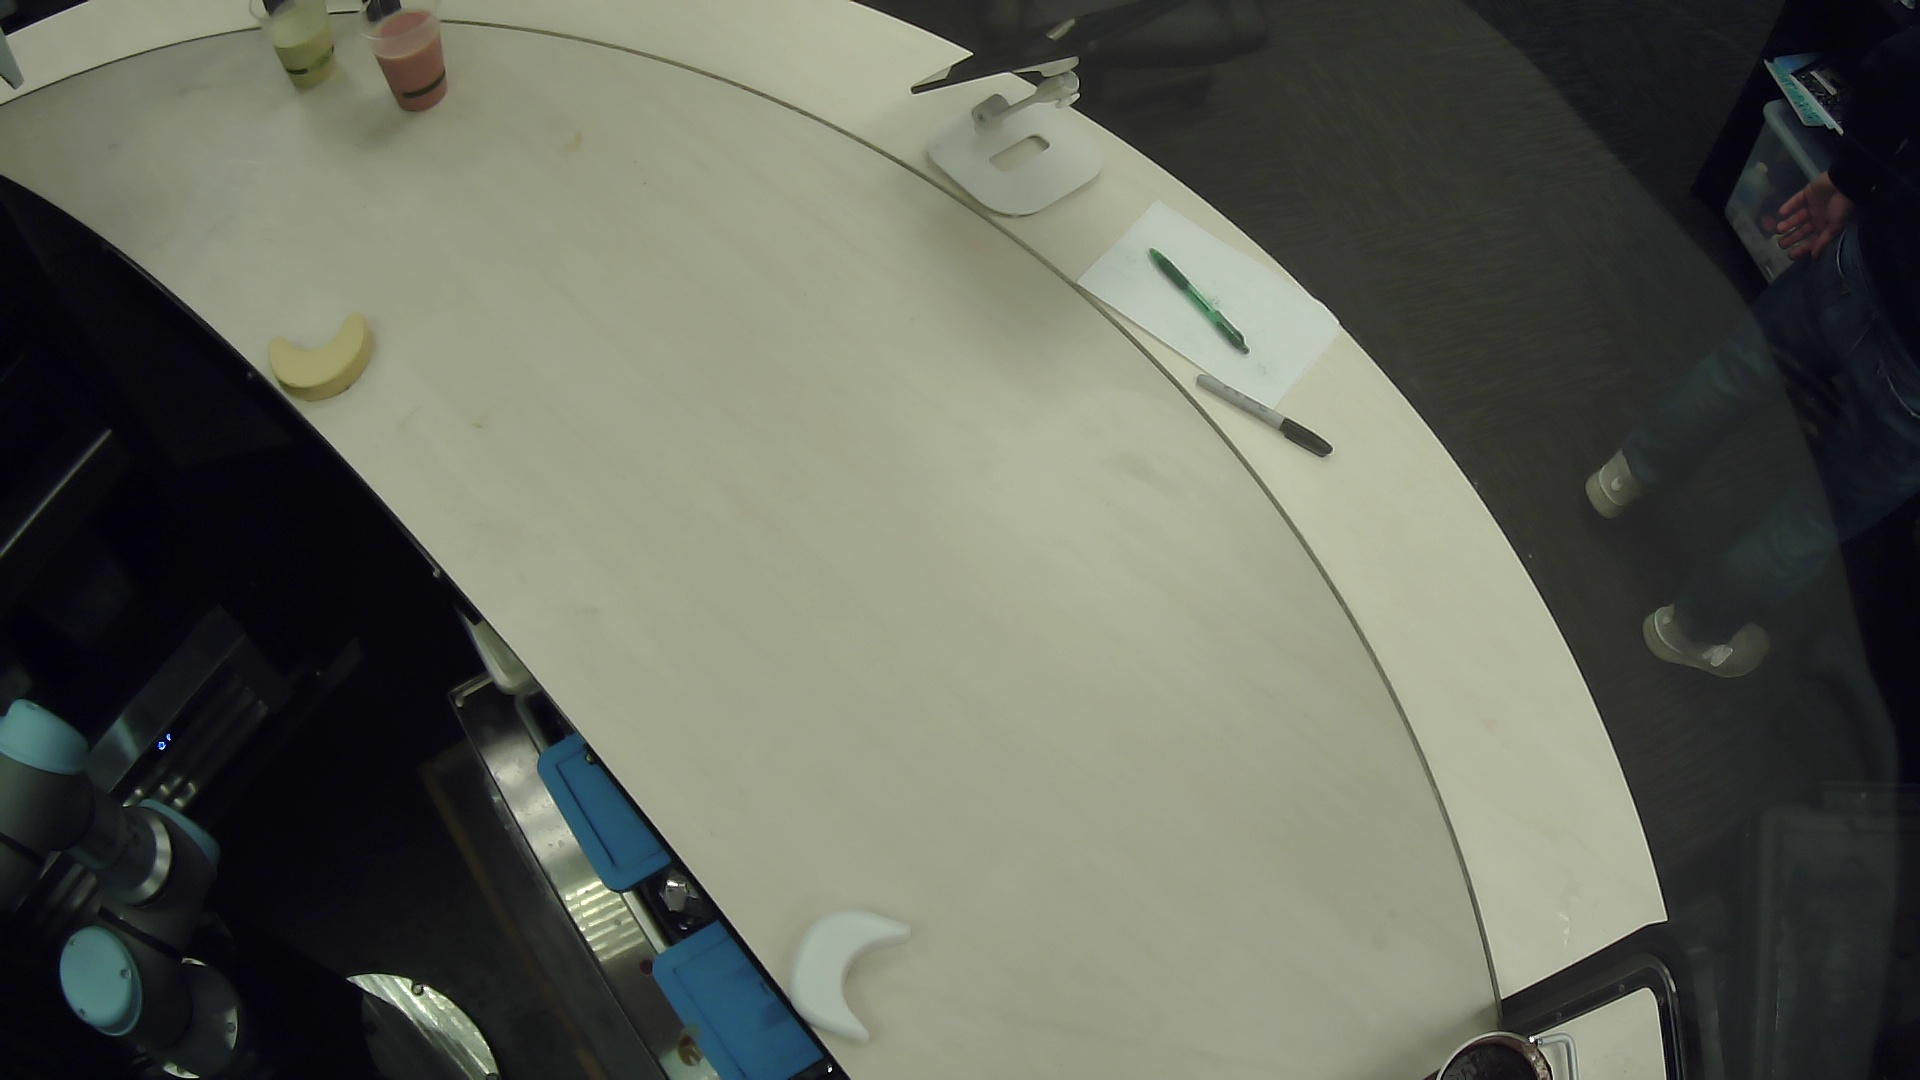Deliver: (775, 891, 936, 1047), (257, 298, 393, 444)
Full_cup: (1389, 971, 1578, 1080), (363, 1, 477, 129), (237, 1, 356, 102)
